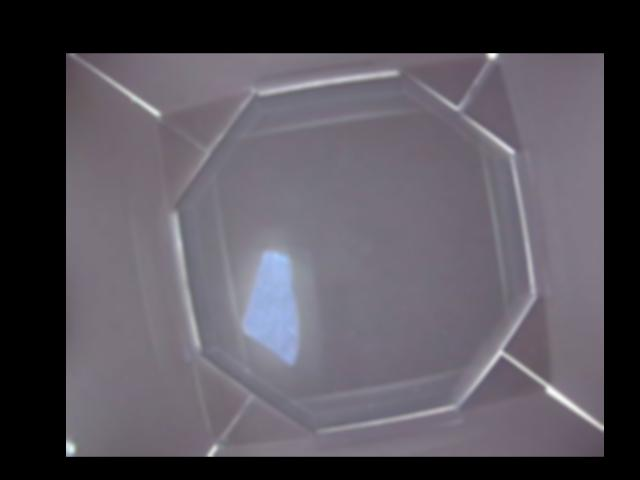China: (240, 250, 299, 363)
